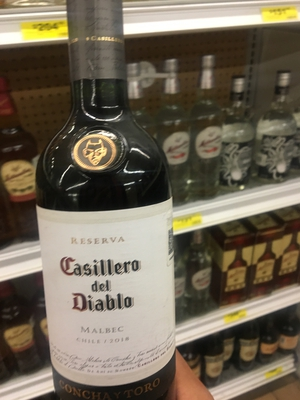casillero del diablo malbec: (30, 8, 211, 400)
